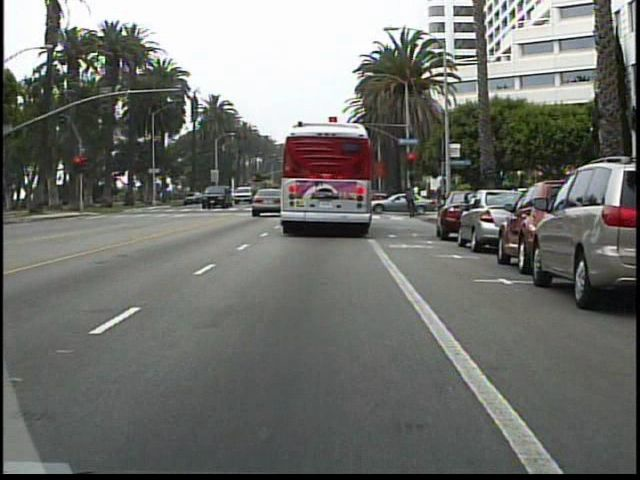person: (400, 184, 419, 217)
